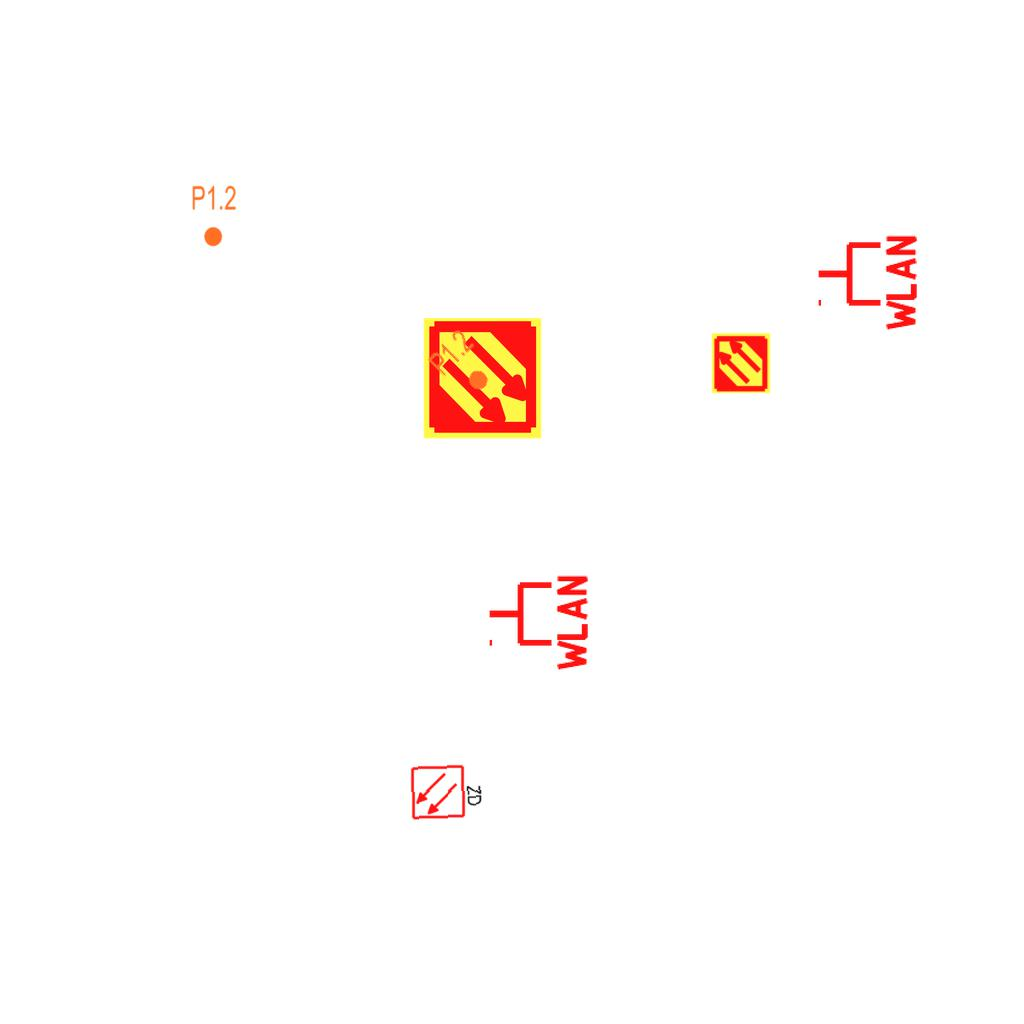ASR_Ansaugrauchmelder: (420, 316, 545, 441), (710, 332, 772, 394)
Downlight_LED_Einbauleuchten_Flur: (425, 326, 503, 404), (191, 184, 237, 248)
WLAN: (814, 231, 919, 335), (485, 571, 590, 675)
ZD_Melder_in_Zwischendecke_mit_Revisionsoeffnung_mind_40_x_40_cm: (409, 761, 486, 821)
